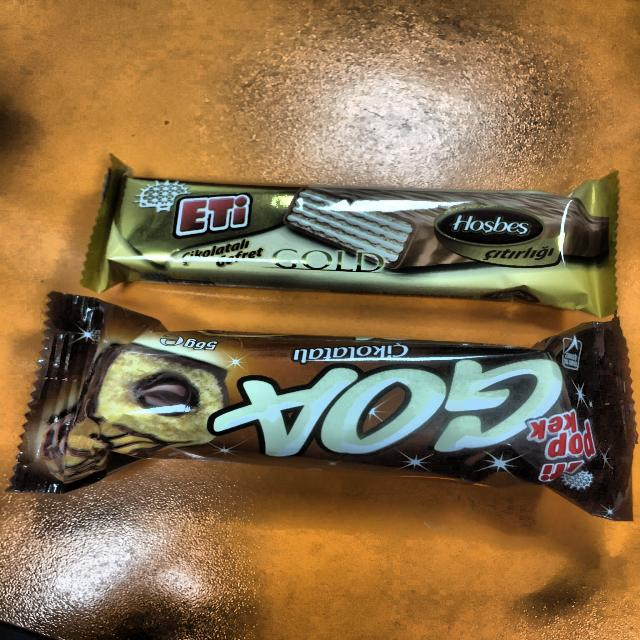Plastic: (0, 288, 638, 531), (73, 151, 621, 323)
